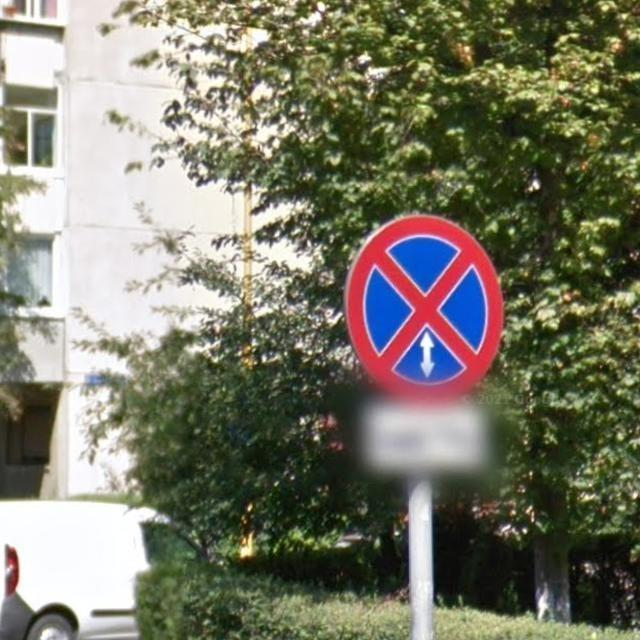forb_waiting: (345, 216, 502, 396)
